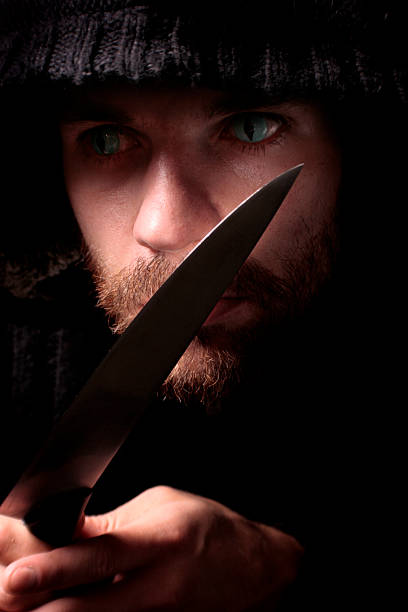knife: (1, 158, 312, 558)
